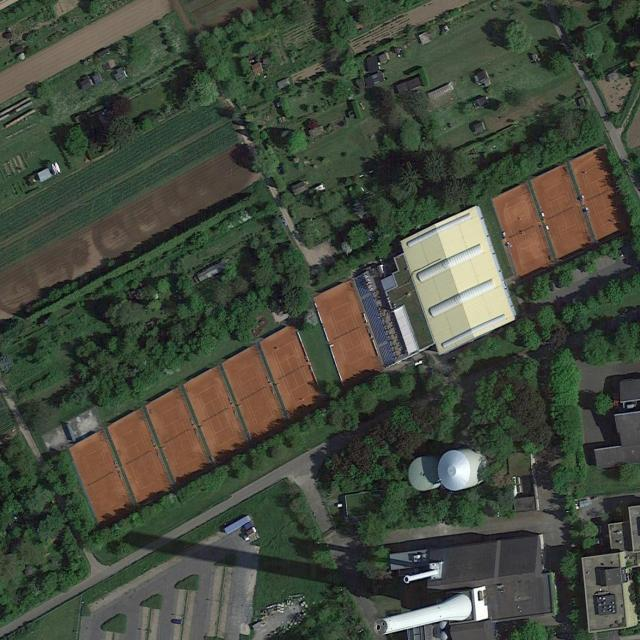storage-tank: (439, 447, 490, 491), (407, 455, 441, 491)
